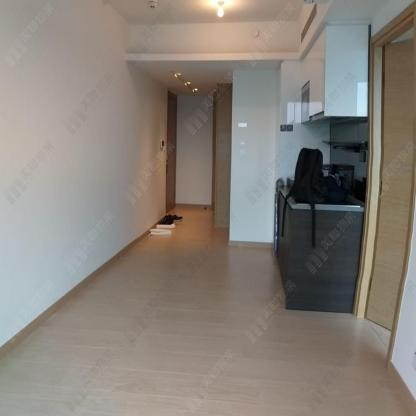Cupboard: (272, 189, 364, 316), (299, 25, 326, 112)
Exhaust Hood: (309, 113, 324, 122)
Microwave: (299, 81, 308, 124)
